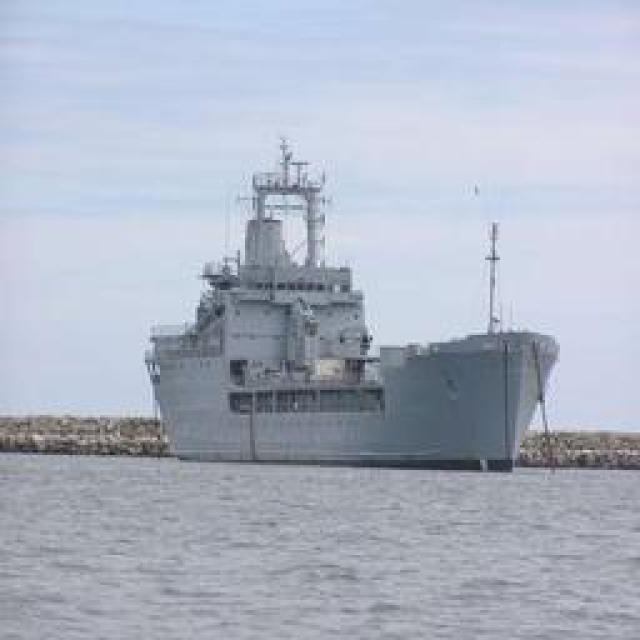Ship: (150, 130, 560, 468)
